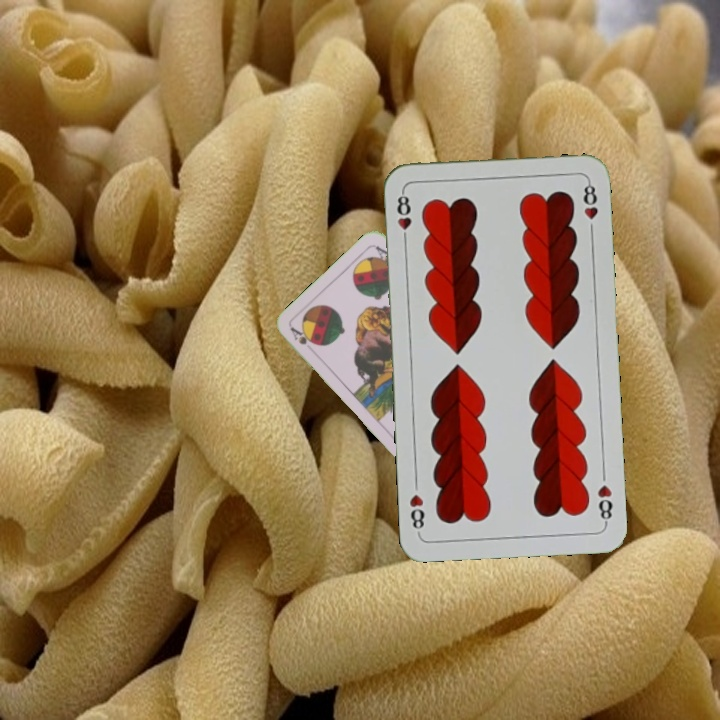H8: (393, 187, 414, 246), (593, 481, 615, 527)
SA: (286, 323, 317, 348)
